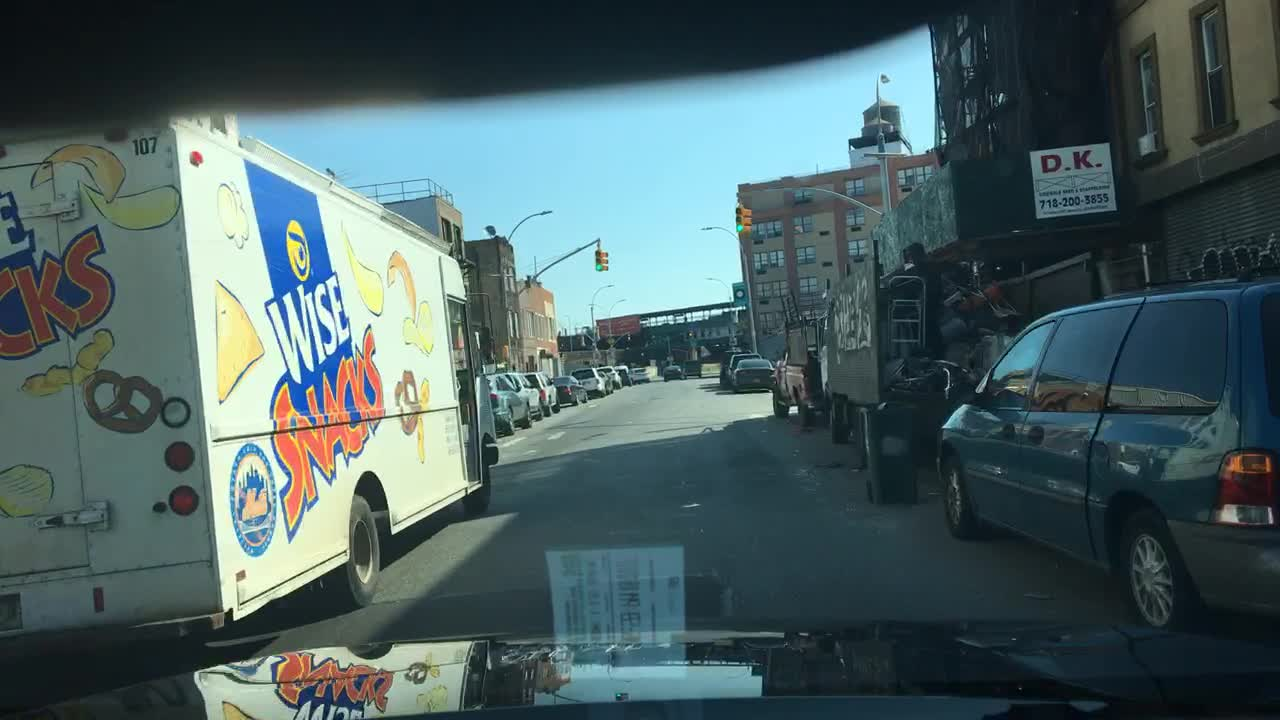car: (930, 273, 1278, 652), (483, 371, 532, 438), (503, 370, 549, 422), (521, 368, 562, 417), (728, 358, 777, 392), (546, 373, 590, 406), (717, 348, 752, 388), (727, 352, 763, 388), (568, 367, 608, 398), (592, 362, 624, 391), (613, 362, 636, 386), (662, 364, 690, 380), (627, 365, 653, 382), (595, 371, 616, 392)
traffic light: (742, 205, 754, 236), (601, 248, 611, 275), (592, 248, 602, 273), (733, 207, 740, 235)
truck: (0, 103, 500, 662), (820, 156, 1105, 465), (768, 312, 825, 429)
